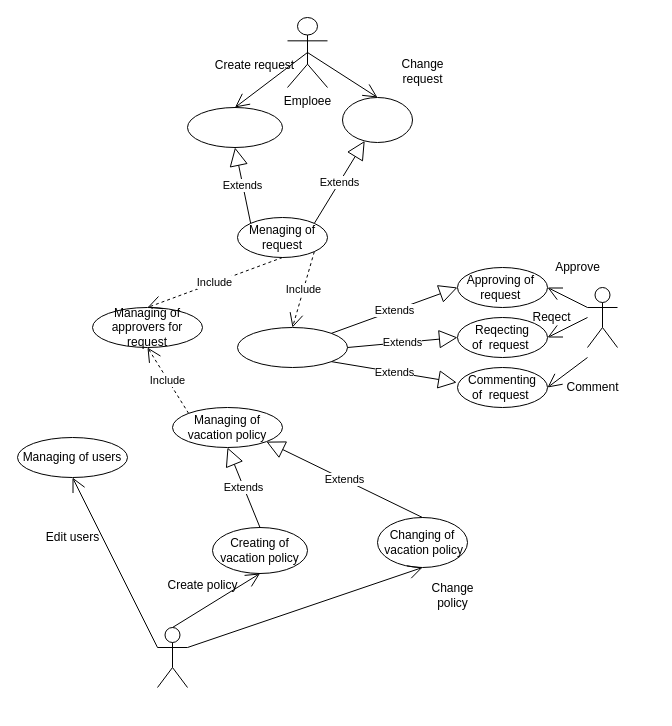
Image size: 672x726. Some labels were removed from this diagram. The shapes that lost their labels are listed below. From the top down, each one's centre as x and y in pixels, then its label:
At pixel 234 127: "Creating of Request".
At pixel 377 119: "Changing of request".
At pixel 602 317: "Approver(Manager)".
At pixel 292 347: "Managing of approval request".
At pixel 172 657: "Admin".
